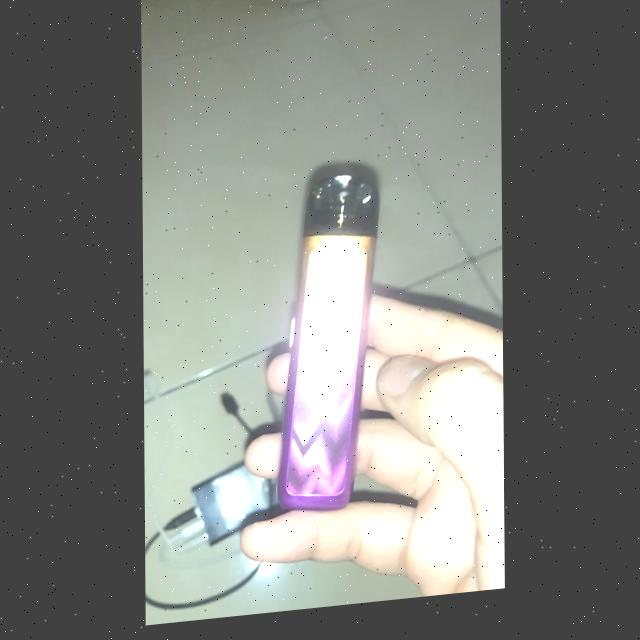vape: (273, 162, 385, 520)
